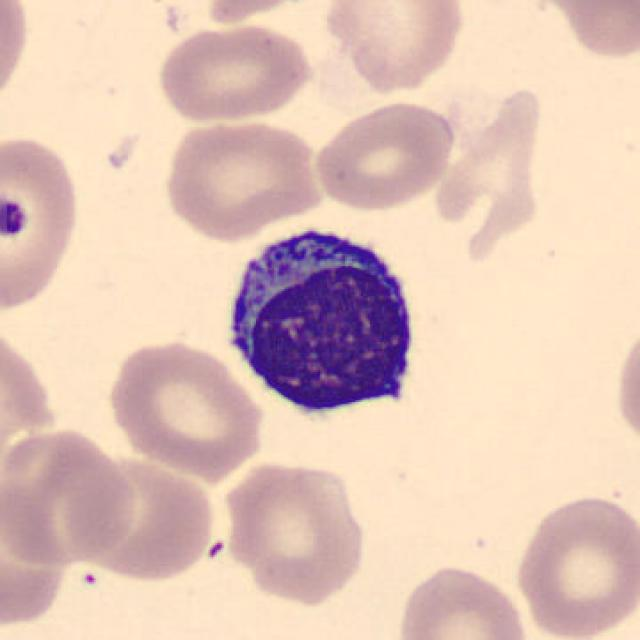Lymphocyte: (214, 214, 431, 428)
Platelets: (0, 196, 30, 242)
RBC: (41, 444, 229, 600), (103, 335, 267, 481), (217, 457, 371, 608), (158, 115, 329, 242), (2, 423, 138, 568), (510, 490, 638, 640), (153, 20, 316, 126), (311, 97, 459, 213), (0, 127, 84, 323), (318, 0, 469, 95), (392, 560, 533, 640), (0, 482, 74, 629), (538, 0, 640, 65), (610, 316, 640, 456), (0, 0, 32, 115), (201, 0, 329, 25)
